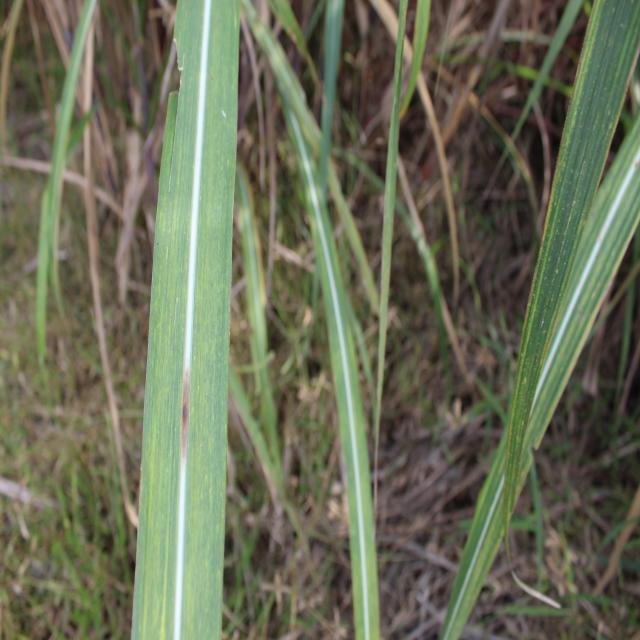Sugarcane: (133, 0, 240, 640)
